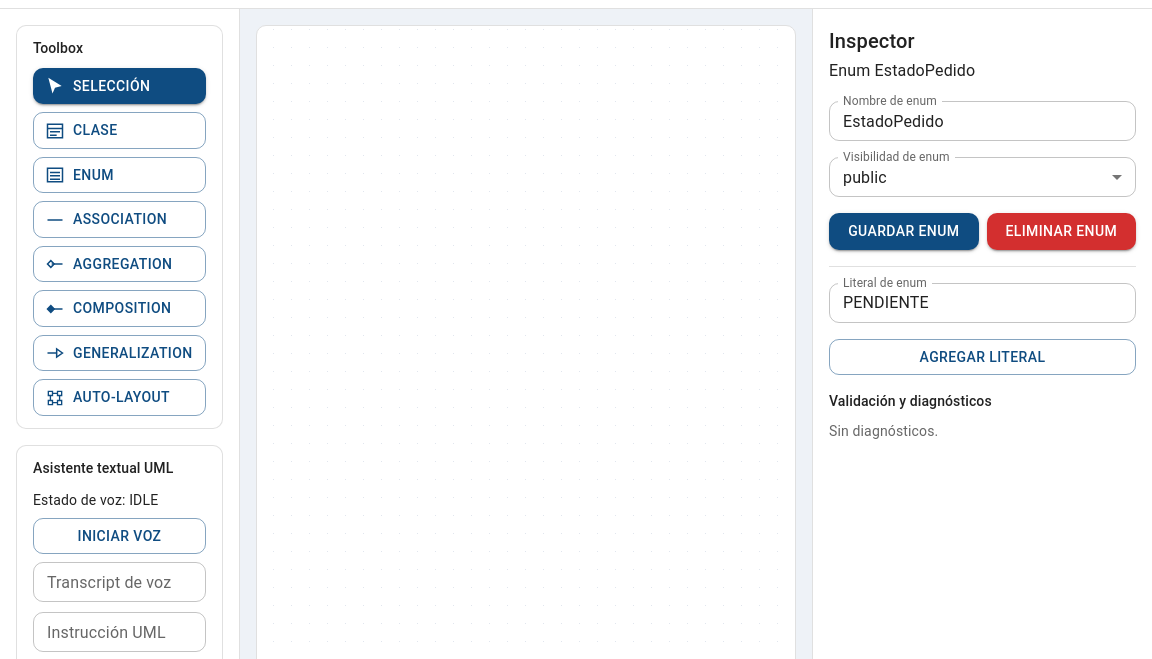
Test: Workspace UML manual › conserva enum y muestra diagnostics cuando DeleteEnumeration tiene una referencia de tipo
The image size is (1152, 659).
Click the button "Eliminar enum". click: (1061, 231)
box: x1=986 y1=213 x2=1136 y2=250
(page scrolled)
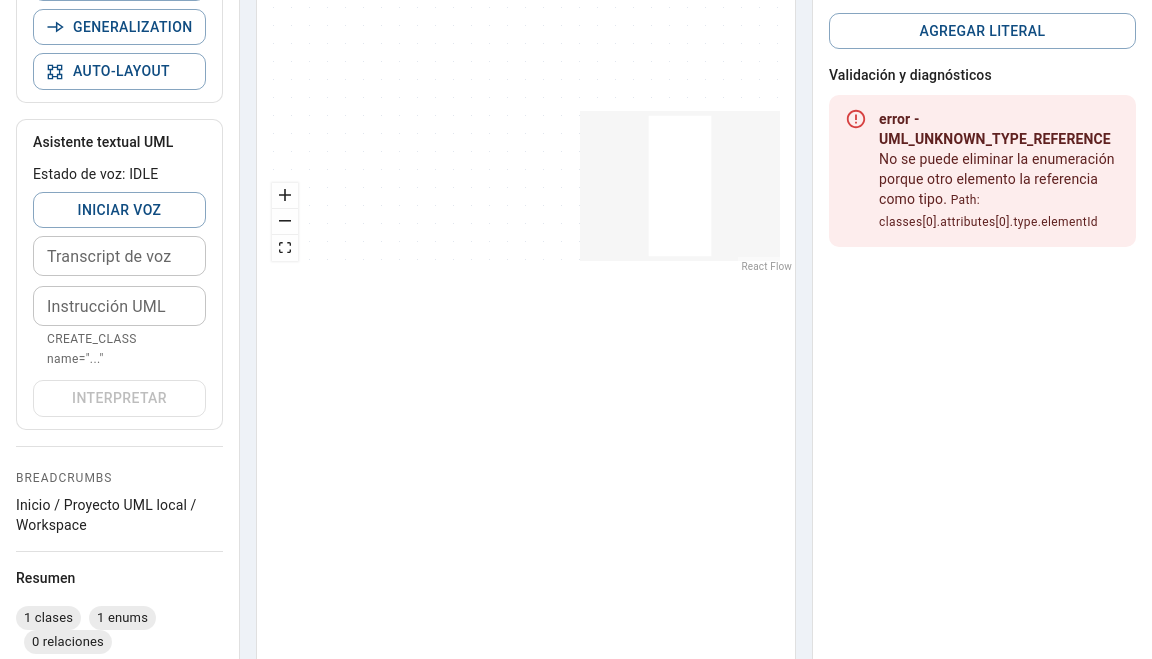
Expected: the button "Nodo enum EstadoPedido" is shown, x1=256 y1=294 x2=421 y2=315
Expected: the text "error - UML_UNKNOWN_TYPE_REFERENCE" is shown, x1=879 y1=111 x2=1111 y2=147
